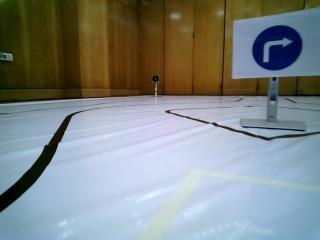right: (233, 22, 320, 78)
